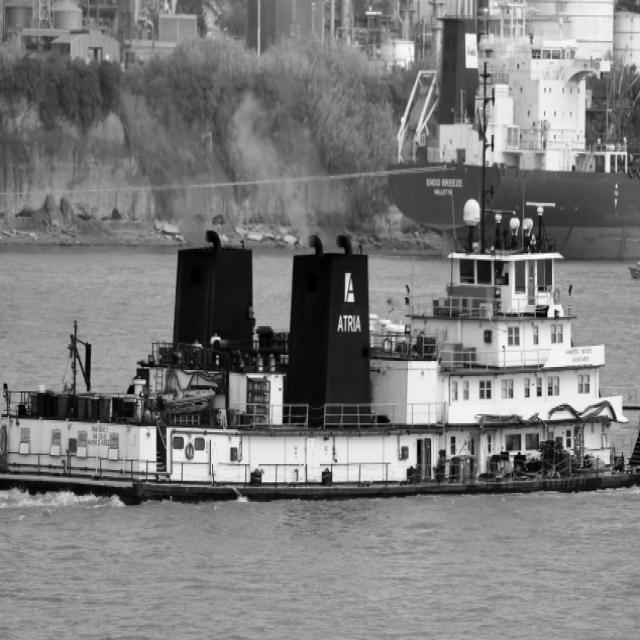tugboat: (1, 56, 640, 509)
